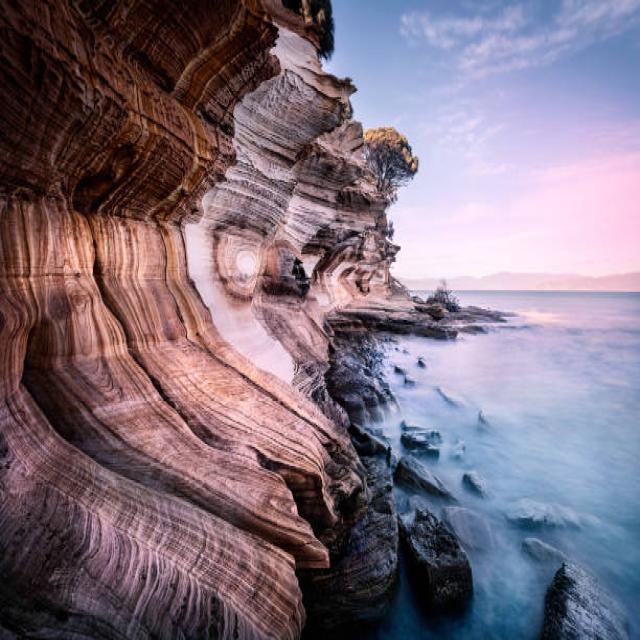Sedimentary: (3, 1, 423, 640)
